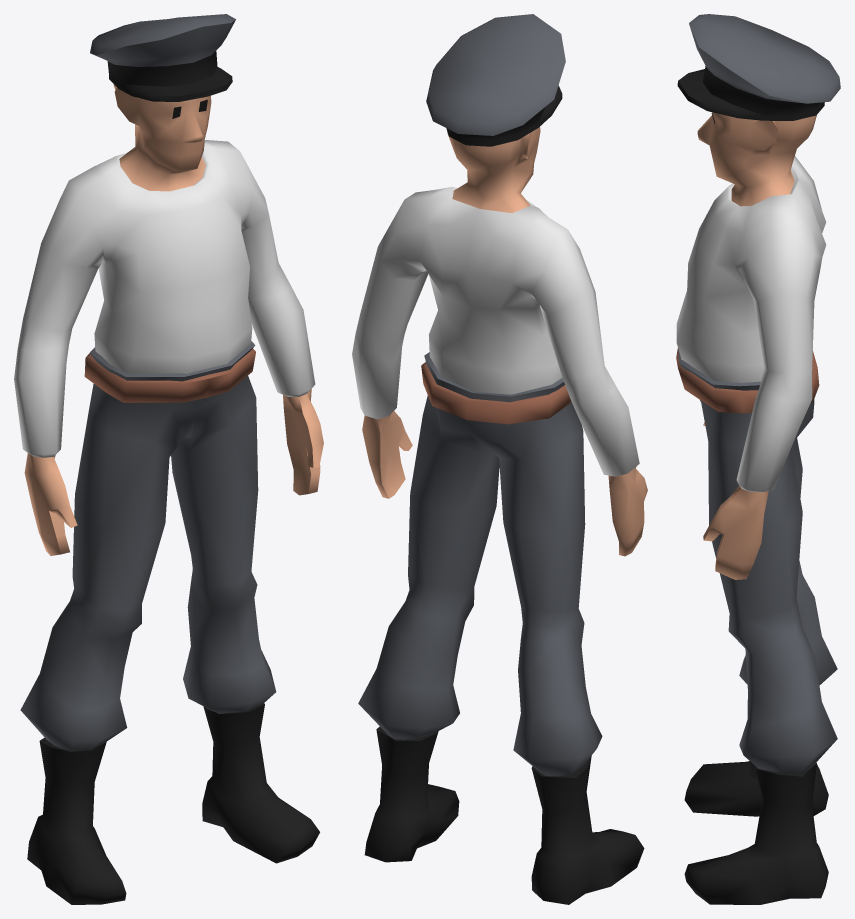
Rendered from SM_Soldier_03.fbx.
3 views of the same model, side by side, from view 1: azimuth 30°, elevation 25°; view 2: azimuth 150°, elevation 25°; view 3: azimuth 270°, elevation 25° (orthographic). The views are drawn at different scales.
Visible parts, largest first — view 1: Soldier_03_Pants, Soldier_03_Shirt, Soldier_03_Boots, Soldier_03_Body, Soldier_03_Hat, Soldier_03_Belt; view 2: Soldier_03_Pants, Soldier_03_Shirt, Soldier_03_Boots, Soldier_03_Hat, Soldier_03_Body, Soldier_03_Belt; view 3: Soldier_03_Shirt, Soldier_03_Pants, Soldier_03_Boots, Soldier_03_Hat, Soldier_03_Body, Soldier_03_Belt.
Boxes of the visible parts, x1,y1,x2,y2 form: Soldier_03_Pants: (20,341,276,751); Soldier_03_Shirt: (14,140,315,457); Soldier_03_Boots: (27,703,319,904); Soldier_03_Body: (24,84,323,555); Soldier_03_Hat: (90,14,235,101); Soldier_03_Belt: (84,349,255,402); Soldier_03_Pants: (358,352,602,776); Soldier_03_Shirt: (352,186,639,476); Soldier_03_Boots: (364,726,644,904); Soldier_03_Hat: (426,14,565,146); Soldier_03_Body: (362,127,647,556); Soldier_03_Belt: (421,362,571,424); Soldier_03_Shirt: (676,156,826,492); Soldier_03_Pants: (678,350,837,773); Soldier_03_Boots: (684,761,828,904); Soldier_03_Hat: (677,14,840,120); Soldier_03_Body: (697,112,816,579); Soldier_03_Belt: (676,348,819,413).
Bounding box in the file's own units: 65.61 × 189 × 34.17.
